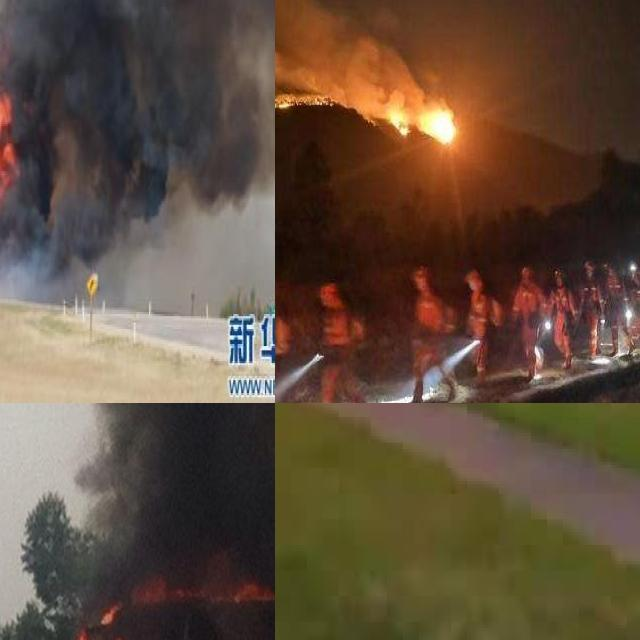fire: (63, 562, 275, 640), (385, 94, 461, 154)
smoke: (0, 0, 275, 288), (64, 403, 275, 640), (275, 0, 418, 129)
